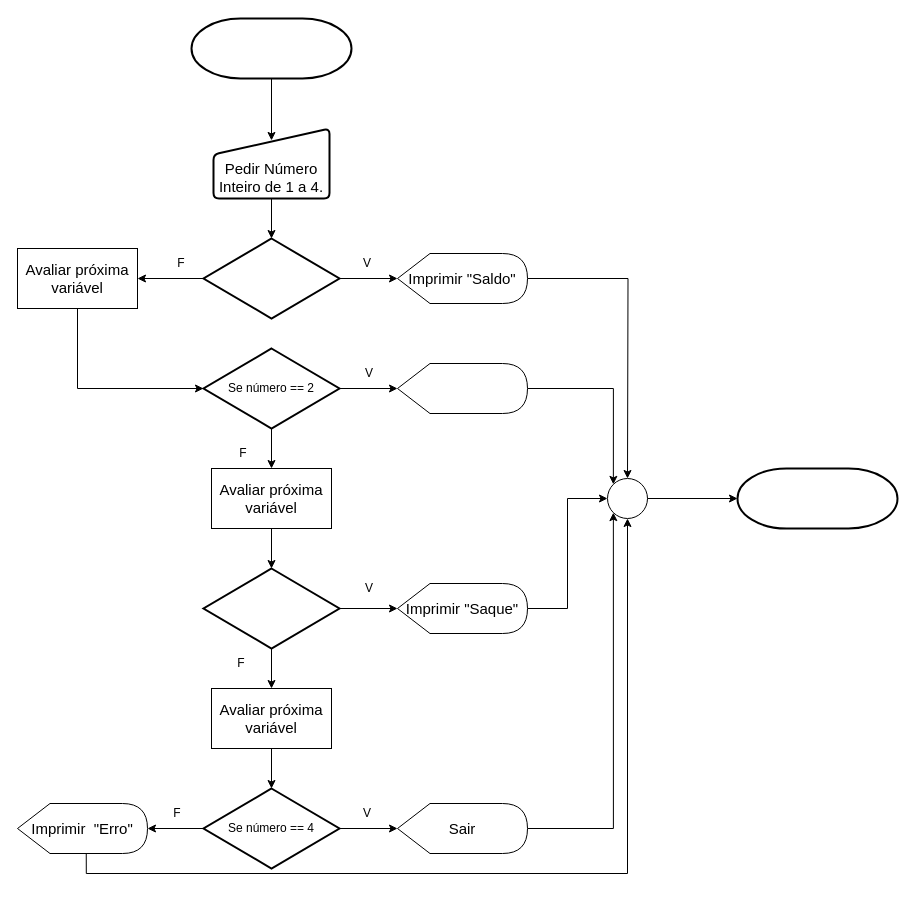
Some shapes in this 916 by 899 pixel diagram are drawn without their labels. Each missing label, with the centre of its shape:
Fim: point (817, 498)
Imprimir "Extrato": point (462, 388)
Início: point (271, 48)
Se número == 1: point (271, 278)
Se número == 3: point (271, 608)
